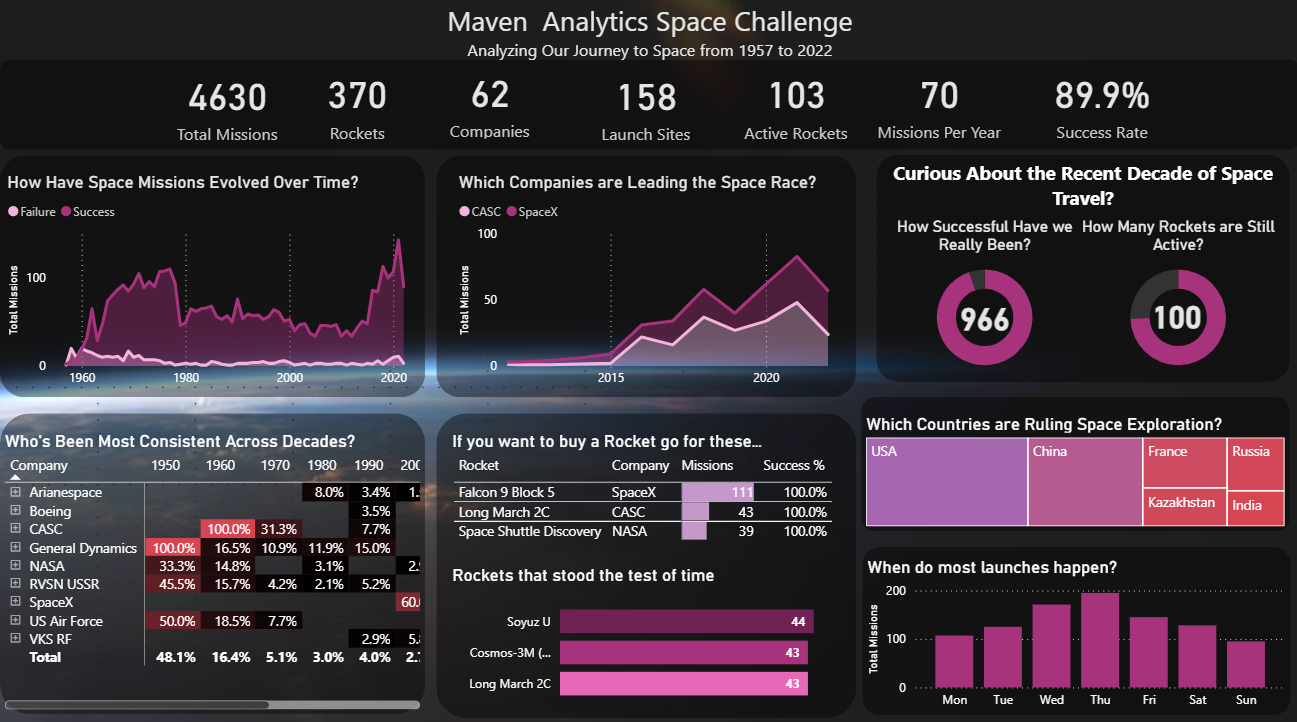

The page's visual inventory and layout, read from the dashboard file:
{"tool":"powerbi","page":{"name":"Page 4","canvas":[1280,720],"ordinal":2},"visuals":[{"type":"shape","box":[0,61.2,1280,89],"z":0},{"type":"textbox","box":[0,0,1280,71],"z":1000},{"type":"card","fields":{"Values":["Measures_.Total Missions"]},"box":[160,65.5,128,81.5],"z":2000},{"type":"card","fields":{"Values":["Measures_.Rockets"]},"box":[288,64,128,81.5],"z":3000},{"type":"card","fields":{"Values":["Measures_.Companies"]},"box":[418.9,62.5,128,81.5],"z":4000},{"type":"card","fields":{"Values":["Measures_.Launch Sites"]},"box":[572.3,65.2,128,81.2],"z":5000},{"type":"card","fields":{"Values":["Measures_.Active Rockets"]},"box":[720,64,128,81.5],"z":6000},{"type":"card","fields":{"Values":["Measures_.Missions Per Year"]},"box":[848,64,153.8,81.2],"z":7000},{"type":"card","fields":{"Values":["Measures_.Success Rate"]},"box":[1021.5,64,128,80],"z":8000},{"type":"shape","box":[0,155.8,418.8,237.9],"z":9000},{"type":"areaChart","title":"How Have Space Missions Evolved Over Time?","fields":{"Y":["Measures_.Total Missions"],"Category":["space_missions.Year"],"Series":["space_missions.MissionStatus"]},"box":[2.8,172.5,413.2,221.2],"z":10000},{"type":"shape","box":[429.9,155.8,413.2,237.9],"z":11000},{"type":"stackedAreaChart","title":"Which Companies are Leading the Space Race?","fields":{"Category":["space_missions.Year"],"Y":["Measures_.Total Missions"],"Series":["space_missions.Company"]},"box":[446.6,172.5,386.8,221.2],"z":12000},{"type":"shape","box":[862.5,155.6,407.3,224],"z":13000},{"type":"donutChart","title":"How Successful Have we Really Been?","fields":{"Category":["space_missions.MissionStatus"],"Y":["Measures_.Total Missions"]},"box":[862.5,216.7,213.8,162.9],"z":14000},{"type":"card","fields":{"Values":["Measures_.Total Missions"]},"box":[906.2,276.4,128,77.1],"z":15000},{"type":"donutChart","title":"How Many Rockets are Still Active?","fields":{"Y":["Count(space_missions.Rocket)"],"Category":["space_missions.RocketStatus"]},"box":[1058.9,216.7,203.6,162.9],"z":16000},{"type":"shape","box":[429.5,409.8,413.5,300.3],"z":17000},{"type":"barChart","title":"Rockets that stood the test of time","fields":{"Y":["Measures_.RocketAge_Measure"],"Category":["space_missions.Rocket"]},"box":[440.6,558.8,392.6,147.7],"z":18000},{"type":"tableEx","title":"If you want to buy a Rocket go for these...","fields":{"Values":["space_missions.Rocket","space_missions.Company","Measures_.Count of Missions","Measures_.Success Rate"]},"box":[440.6,427.1,392.6,131.7],"z":19000},{"type":"shape","box":[848.7,541.2,421.6,165.6],"z":20000},{"type":"columnChart","title":"When do most launches happen?","fields":{"Y":["Measures_.Total Missions"],"Category":["space_missions.Weekday"]},"box":[848.7,551,421.6,158.6],"z":21000},{"type":"shape","box":[0,410.4,418.8,296.3],"z":22000},{"type":"pivotTable","title":"Who''s Been Most Consistent Across Decades?","fields":{"Rows":["space_missions.Company","space_missions.Rocket"],"Columns":["space_missions.Decade"],"Values":["Measures_.Failure Rate"]},"box":[0,427.6,418.9,279.3],"z":23000},{"type":"shape","box":[848,394.2,421.8,132.4],"z":24000},{"type":"treemap","title":"Which Countries are Ruling Space Exploration?","fields":{"Values":["Measures_.Total Missions"],"Group":["space_missions.Country"]},"box":[848,410.2,421.8,116.4],"z":25000},{"type":"card","fields":{"Values":["Measures_.Rockets"]},"box":[1098.2,274.9,122.2,77.1],"z":26000},{"type":"textbox","box":[862.5,155.6,407.3,61.1],"z":26001}]}

Visuals, with their boxes in screenshot pixels (x1, y1, x2, y2), scaled from the page's 1280x720 canvas onto the 1297x722 screenshot:
shape: rect(0, 61, 1296, 151)
textbox: rect(0, 0, 1296, 71)
card - Measures_.Total Missions: rect(162, 66, 292, 147)
card - Measures_.Rockets: rect(292, 64, 422, 146)
card - Measures_.Companies: rect(424, 63, 554, 144)
card - Measures_.Launch Sites: rect(580, 65, 710, 147)
card - Measures_.Active Rockets: rect(730, 64, 859, 146)
card - Measures_.Missions Per Year: rect(859, 64, 1015, 146)
card - Measures_.Success Rate: rect(1035, 64, 1165, 144)
shape: rect(0, 156, 424, 395)
"How Have Space Missions Evolved Over Time?" areaChart: rect(3, 173, 422, 395)
shape: rect(436, 156, 854, 395)
"Which Companies are Leading the Space Race?" stackedAreaChart: rect(453, 173, 844, 395)
shape: rect(874, 156, 1287, 381)
"How Successful Have we Really Been?" donutChart: rect(874, 217, 1091, 381)
card - Measures_.Total Missions: rect(918, 277, 1048, 354)
"How Many Rockets are Still Active?" donutChart: rect(1073, 217, 1279, 381)
shape: rect(435, 411, 854, 712)
"Rockets that stood the test of time" barChart: rect(446, 560, 844, 708)
"If you want to buy a Rocket go for these..." tableEx: rect(446, 428, 844, 560)
shape: rect(860, 543, 1287, 709)
"When do most launches happen?" columnChart: rect(860, 553, 1287, 712)
shape: rect(0, 412, 424, 709)
"Who''s Been Most Consistent Across Decades?" pivotTable: rect(0, 429, 424, 709)
shape: rect(859, 395, 1287, 528)
"Which Countries are Ruling Space Exploration?" treemap: rect(859, 411, 1287, 528)
card - Measures_.Rockets: rect(1113, 276, 1237, 353)
textbox: rect(874, 156, 1287, 217)
